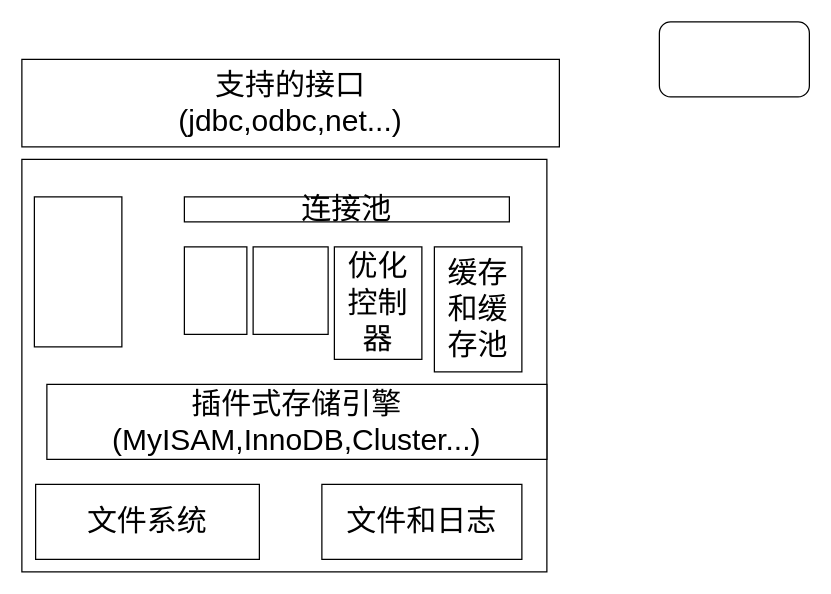
This 831x594 diagram has some shape labels left out. The shapes that lost their labels are listed below. From the top down, each one's centre as x and y in pixels, then its label:
the point at 77,271: 管理服务工具
the point at 215,290: sql接口
the point at 290,290: 解析器
